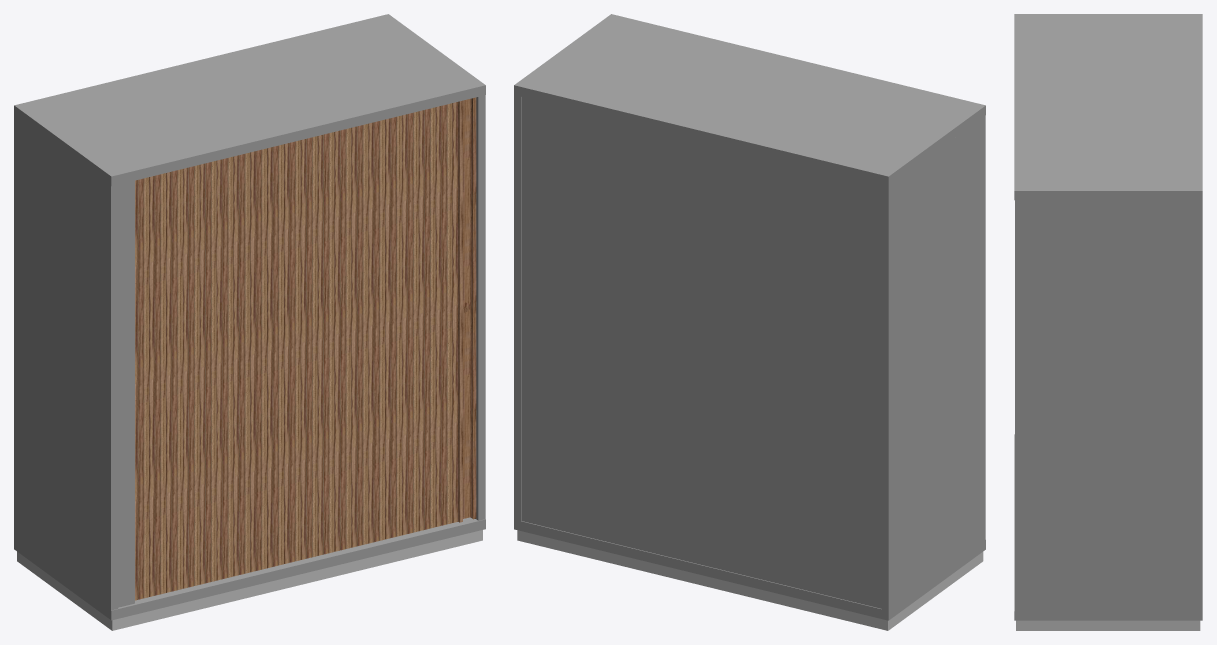
Rendered from baseline_shutter_3OH_45x100_FIN.fbx.
3 renders of one model, left to right at view 1: azimuth 30°, elevation 25°; view 2: azimuth 150°, elevation 25°; view 3: azimuth 270°, elevation 25°, orthographic. The views are drawn at different scales.
Visible parts, largest first — view 1: polySurface2, M10.I30, M9.I15, M9.I25, M9.I12, M9.I13, M9.I14, M9.I20, M9.I27, M9.I28, M9.I21, M9.I19 (+12 smaller); view 2: polySurface2, podstawa_3_mesh; view 3: polySurface2, podstawa_3_mesh.
Part boxes in pixels (x1=…): polySurface2: x1=14, y1=14, x2=485, y2=620; M10.I30: x1=458, y1=97, x2=476, y2=522; M9.I15: x1=205, y1=159, x2=222, y2=583; M9.I25: x1=373, y1=118, x2=390, y2=542; M9.I12: x1=154, y1=171, x2=171, y2=595; M9.I13: x1=171, y1=167, x2=188, y2=591; M9.I14: x1=188, y1=163, x2=205, y2=587; M9.I20: x1=289, y1=139, x2=306, y2=562; M9.I27: x1=407, y1=110, x2=424, y2=533; M9.I28: x1=424, y1=106, x2=441, y2=529; M9.I21: x1=306, y1=135, x2=323, y2=558; M9.I19: x1=272, y1=143, x2=289, y2=566; polySurface2: x1=514, y1=14, x2=985, y2=620; podstawa_3_mesh: x1=517, y1=530, x2=983, y2=630; polySurface2: x1=1014, y1=14, x2=1202, y2=620; podstawa_3_mesh: x1=1016, y1=620, x2=1200, y2=630.
Size of the model in its own units: 254 by 295 by 114.
